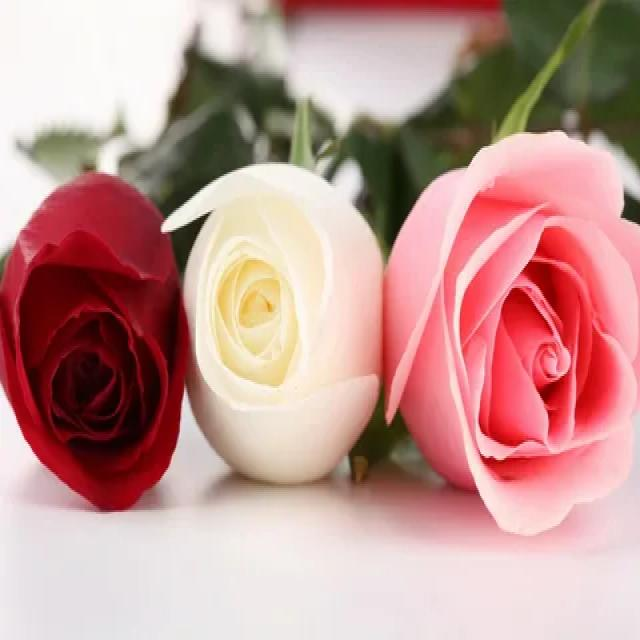rose: (380, 114, 640, 536), (0, 156, 187, 536)
